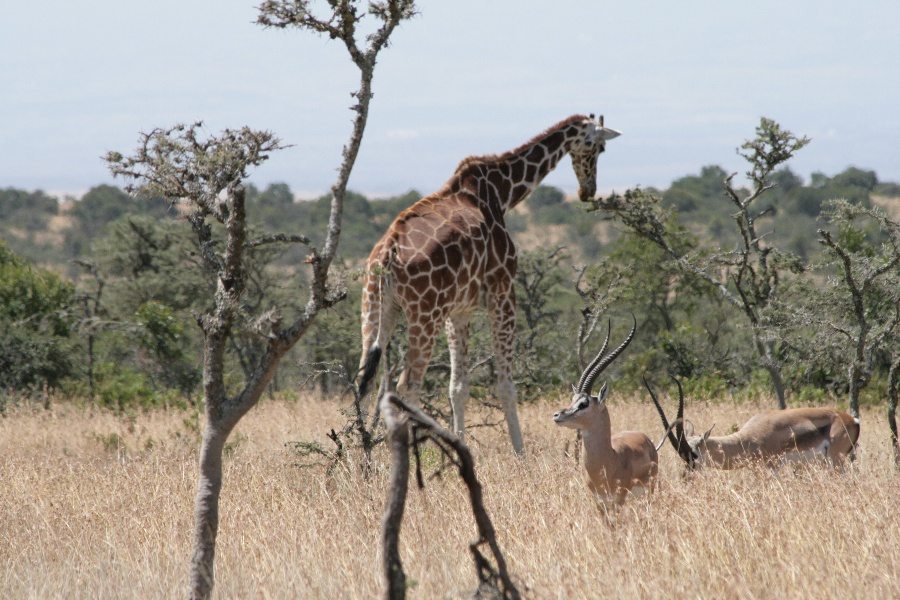giraffe: (338, 106, 624, 453)
